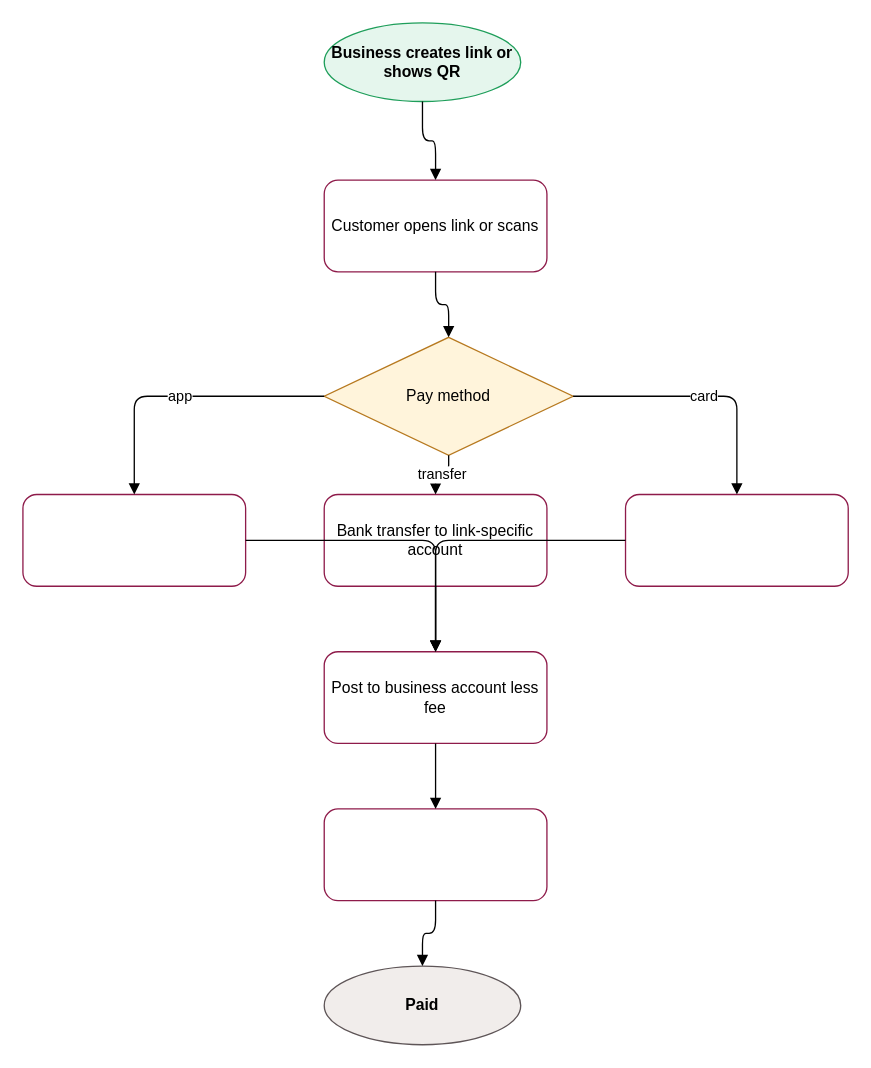
Image size: 871x1068. Some labels were removed from this diagram. The shapes that lost their labels are listed below. From the top down, each one's box as (x1, y1, x2, y2) in pixels, then its label:
(22, 493, 246, 586): In app: confirm amount, PIN
(624, 493, 848, 586): Card (later)
(323, 808, 547, 901): Receipts and notifications to both
